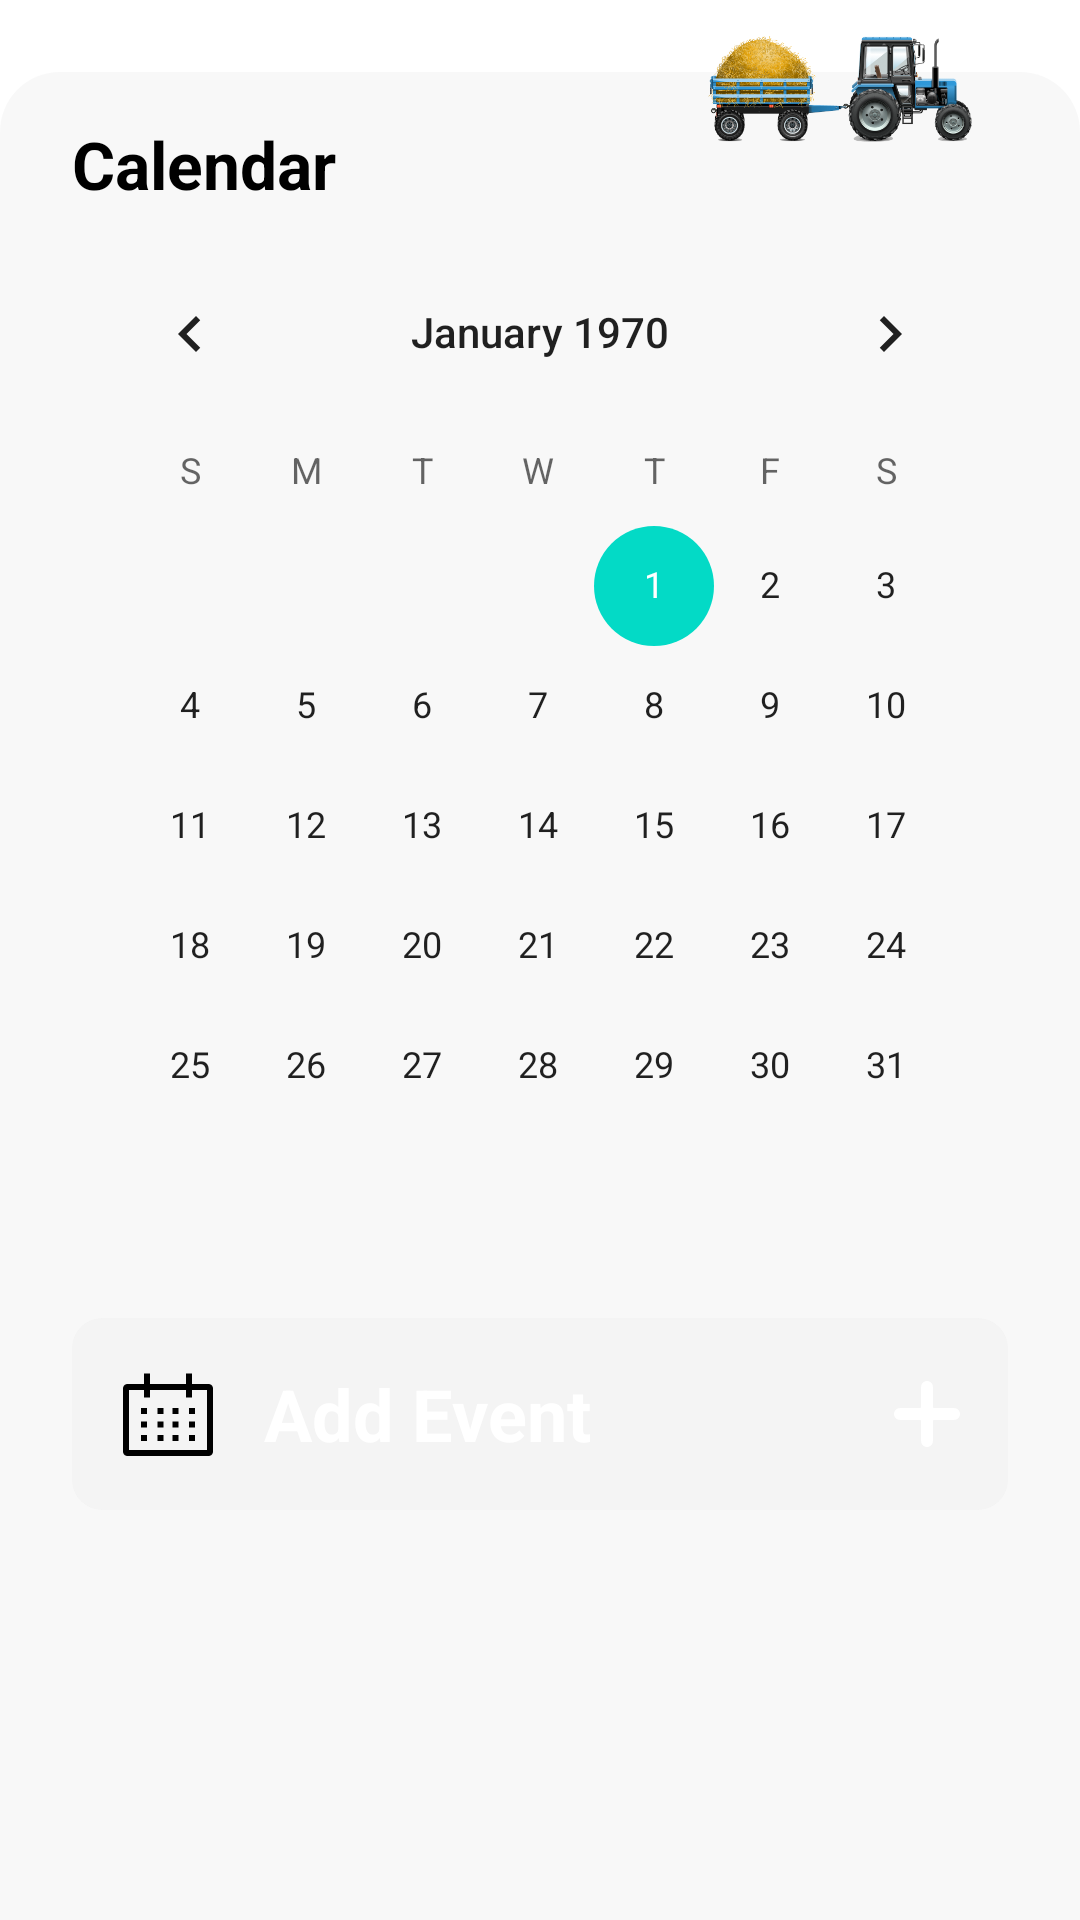

Icon bounding boxes for this 1080*1920 phone screenshot, format (x1, y1, x2, y2):
calendar: (123, 1373, 213, 1456)
